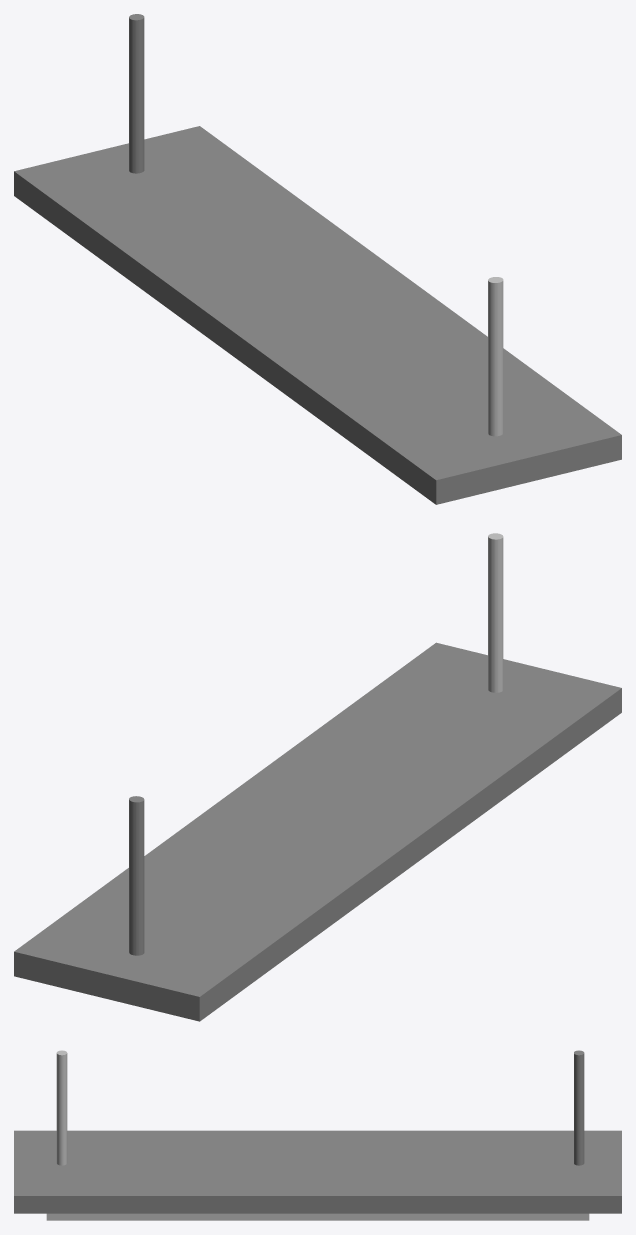
Rendered from Lampa-sklep.fbx.
The picture shows the model from 3 angles, top to bottom: view 1: azimuth 30°, elevation 25°; view 2: azimuth 150°, elevation 25°; view 3: azimuth 270°, elevation 25°; orthographic projection. The views are drawn at different scales.
Visible parts, largest first — view 1: Cube, Cylinder.001, Cylinder; view 2: Cube, Cylinder, Cylinder.001; view 3: Cube, Cube.001, Cylinder, Cylinder.001.
Part boxes in pixels (<box>): Cube: <box>14,126,621,504</box>; Cylinder.001: <box>129,14,144,173</box>; Cylinder: <box>488,277,503,436</box>; Cube: <box>14,642,621,1021</box>; Cylinder: <box>488,533,503,692</box>; Cylinder.001: <box>129,796,144,955</box>; Cube: <box>14,1130,621,1213</box>; Cube.001: <box>46,1213,589,1220</box>; Cylinder: <box>56,1050,67,1165</box>; Cylinder.001: <box>574,1050,584,1165</box>.
Size of the model in its own units: 200 by 205 by 787.
